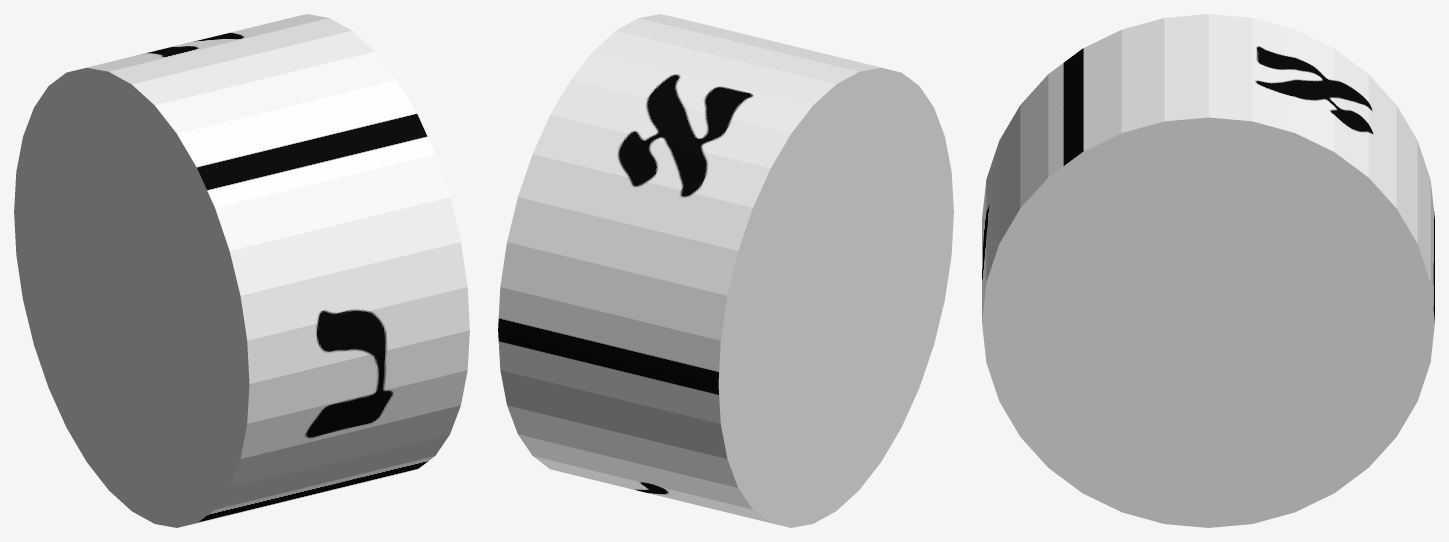
Rendered from slotreel.fbx.
The picture shows the model from 3 angles, left to right: view 1: azimuth 30°, elevation 25°; view 2: azimuth 150°, elevation 25°; view 3: azimuth 270°, elevation 25°; orthographic projection. The views are drawn at different scales.
Visible parts, largest first — view 1: Cylinder; view 2: Cylinder; view 3: Cylinder.
Boxes of the visible parts, <box> form: Cylinder: <box>14,14,469,527</box>; Cylinder: <box>498,14,953,527</box>; Cylinder: <box>982,14,1434,527</box>.
Size of the model in its own units: 108 by 200 by 200.
Materials: 1 (1 with a texture image).
